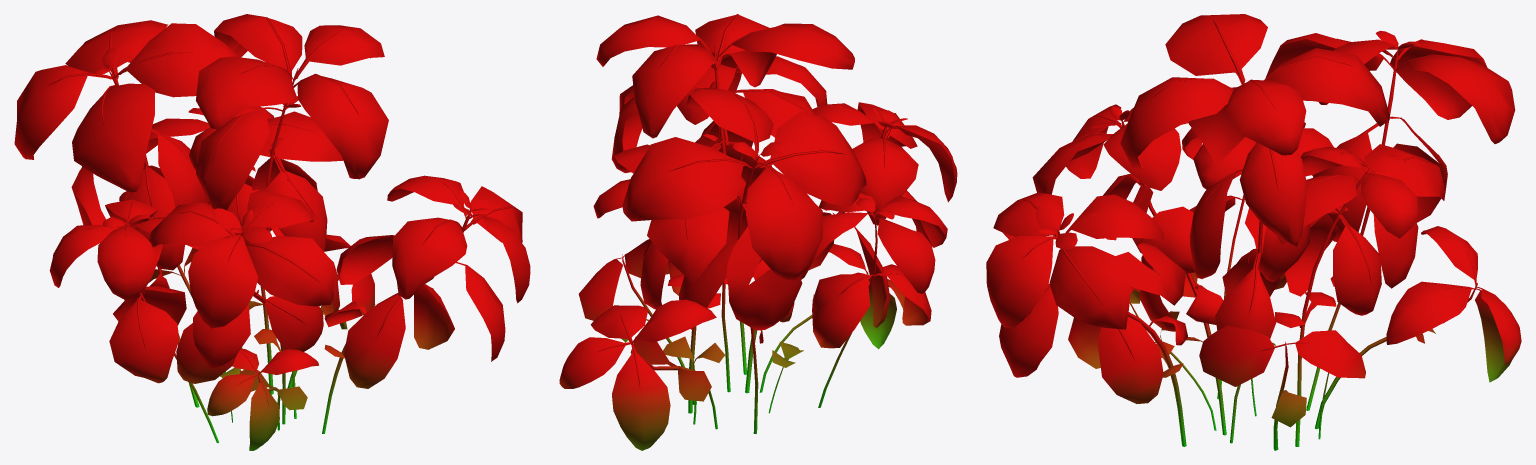
The model's file is Basil_LOD2_Var1_vgpochzia.fbx.
3 renders of one model, left to right at view 1: azimuth 30°, elevation 25°; view 2: azimuth 150°, elevation 25°; view 3: azimuth 270°, elevation 25°, orthographic. The views are drawn at different scales.
Visible parts, largest first — view 1: _f21k_Var1_LOD2; view 2: _f21k_Var1_LOD2; view 3: _f21k_Var1_LOD2.
Boxes of the visible parts, left/top/right/bottom form: _f21k_Var1_LOD2: left=14, top=14, right=530, bottom=450; _f21k_Var1_LOD2: left=559, top=14, right=957, bottom=450; _f21k_Var1_LOD2: left=986, top=14, right=1521, bottom=450.
Size of the model in its own units: 35.22 by 32.05 by 39.54.
